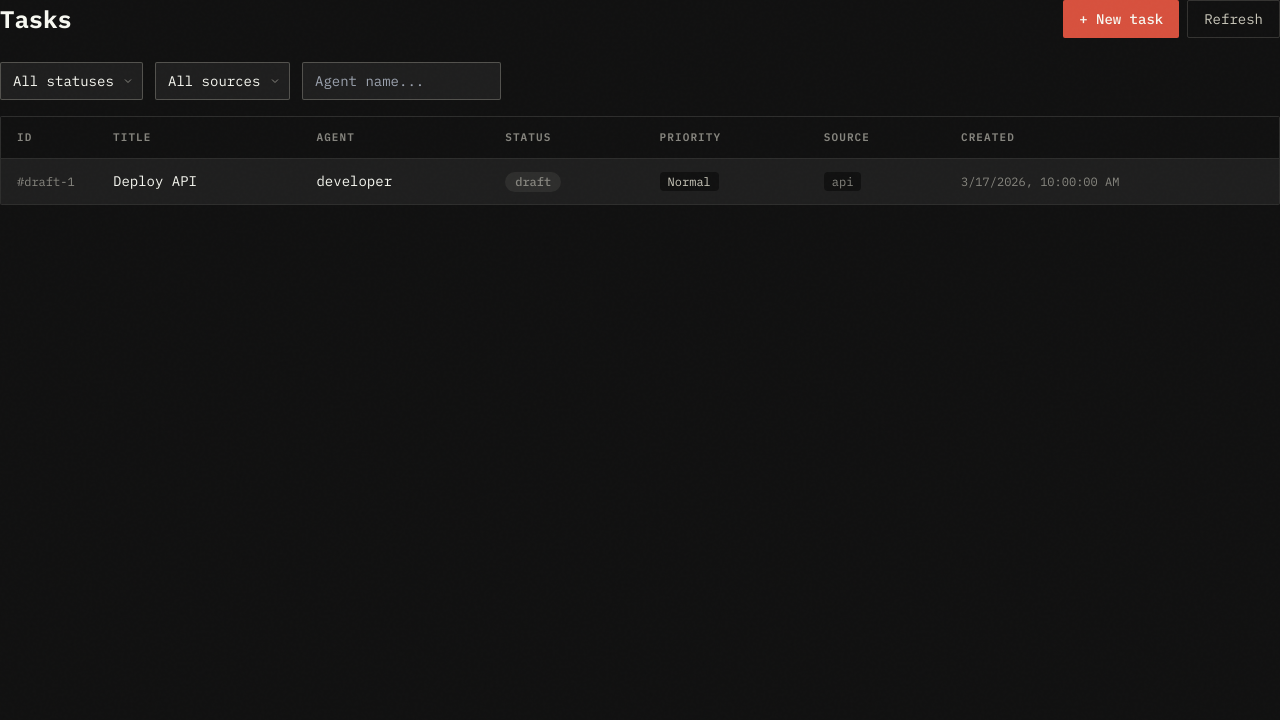
Test: TasksPage › shows Approve/Start/Complete/Fail/Cancel buttons based on status
The width and height of the screenshot is (1280, 720).
What coordinates should you click on to do the following:
click the text "Deploy API"
I would click on:
 (155, 181)
Its box is [113,172,197,190].
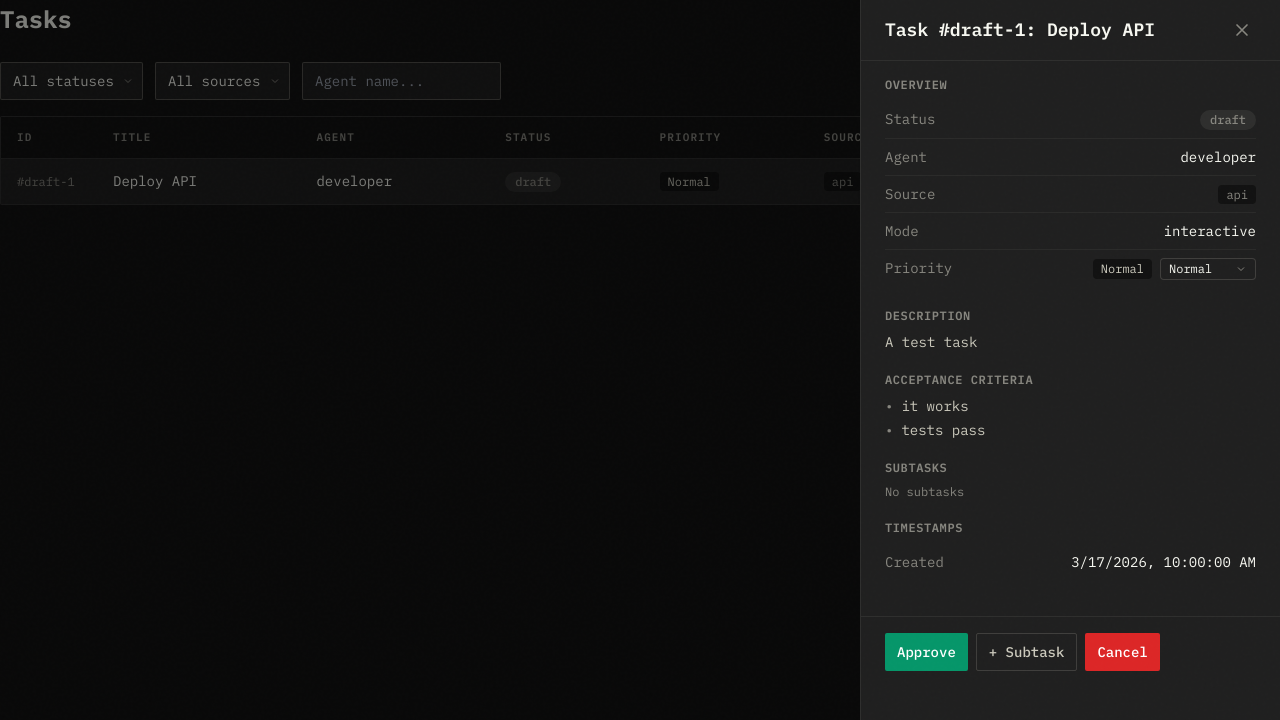
Check: the button "Approve" is shown, box [885,633,968,671]
